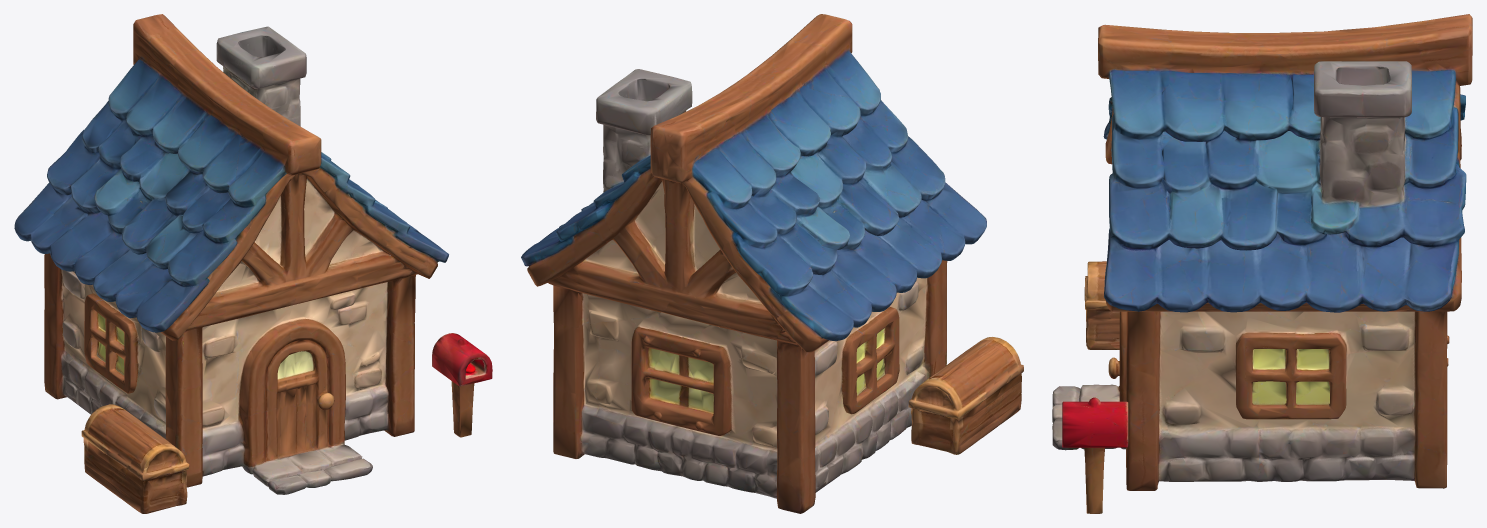
The model's file is panda_house.glb.
The picture shows the model from 3 angles, left to right: view 1: azimuth 30°, elevation 25°; view 2: azimuth 150°, elevation 25°; view 3: azimuth 270°, elevation 25°; orthographic projection. The views are drawn at different scales.
Size of the model in its own units: 1.9 by 1.81 by 1.72.
Materials: 1 (1 with a texture image).
